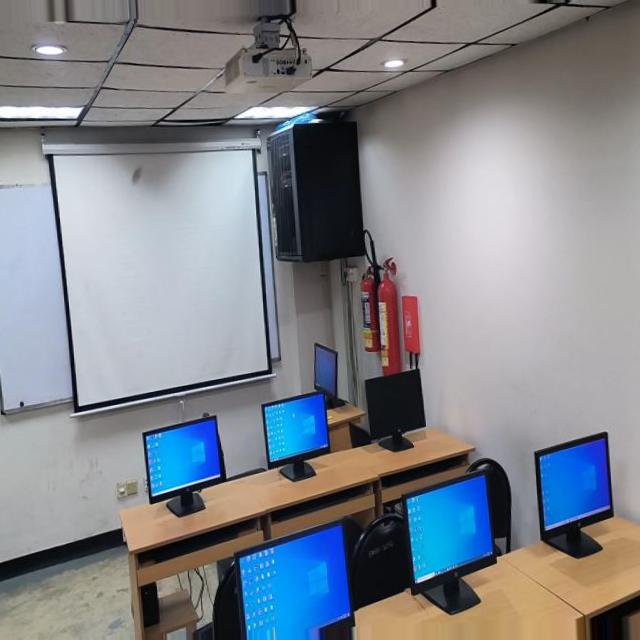Chair: (336, 521, 381, 618), (456, 463, 479, 572), (212, 563, 235, 640)
Fire Extinguisher: (369, 259, 391, 379), (354, 231, 372, 360)
Light: (49, 87, 128, 104), (255, 93, 326, 110), (86, 24, 115, 36), (385, 50, 404, 66)
Monitor: (239, 535, 331, 640), (385, 490, 454, 619), (498, 448, 562, 574), (163, 415, 229, 518), (266, 394, 320, 486), (356, 375, 405, 459)
Projector: (247, 32, 326, 83)
